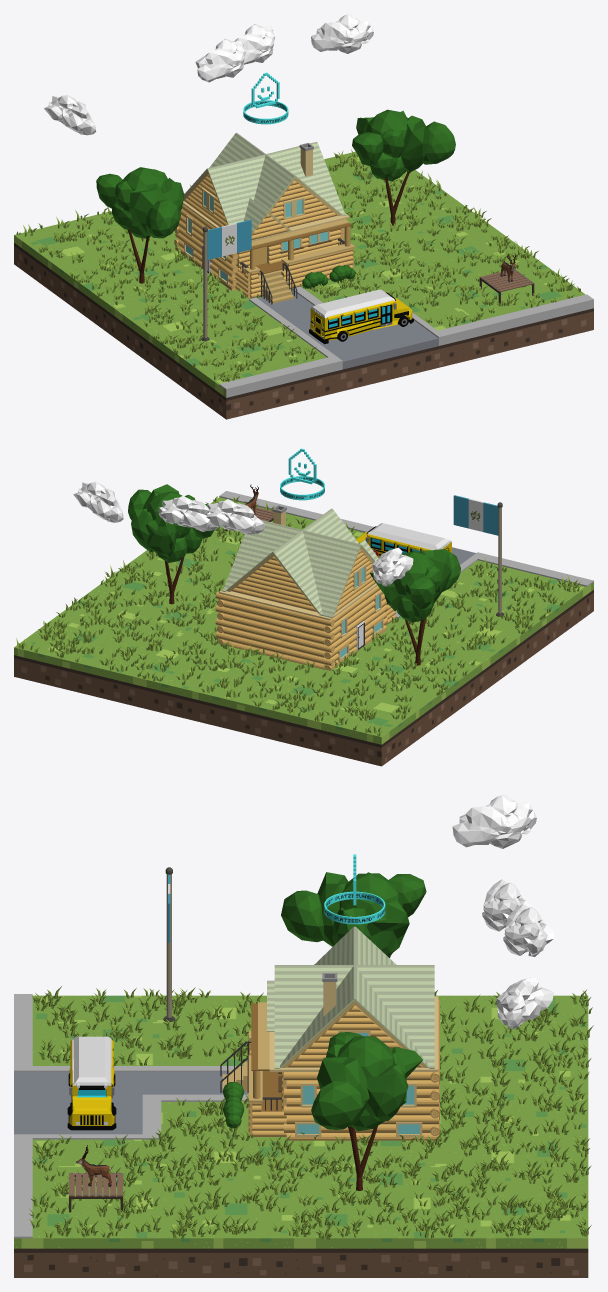
3 renders of one model, top to bottom at view 1: azimuth 30°, elevation 25°; view 2: azimuth 150°, elevation 25°; view 3: azimuth 270°, elevation 25°, orthographic. The views are drawn at different scales.
Parts seen in each view (by area): view 1: Cube.006, Cube.1516, Circle.012_Grass_0.192, Cube.007, tree, tree.001, VEHICLES_SCHOOL_BUS, OBJRANDOM_GUATEMALAN_FLAG, TYPE_PREMIUM, Cube.009; view 2: Cube.006, Cube.1516, Circle.012_Grass_0.192, Cube.007, tree.001, tree, OBJRANDOM_GUATEMALAN_FLAG, VEHICLES_SCHOOL_BUS, TYPE_PREMIUM; view 3: Cube.006, Circle.012_Grass_0.192, Cube.1516, tree, Cube.007, tree.001, VEHICLES_SCHOOL_BUS, Cube.009, TYPE_PREMIUM, OBJRANDOM_GUATEMALAN_FLAG.
Boxes of the visible parts, bbox=[...] form: Cube.006: bbox=[14, 151, 593, 419]; Cube.1516: bbox=[174, 132, 355, 304]; Circle.012_Grass_0.192: bbox=[16, 149, 580, 381]; Cube.007: bbox=[44, 14, 373, 135]; tree: bbox=[352, 109, 455, 225]; tree.001: bbox=[96, 167, 184, 283]; VEHICLES_SCHOOL_BUS: bbox=[309, 289, 413, 344]; OBJRANDOM_GUATEMALAN_FLAG: bbox=[201, 219, 251, 341]; TYPE_PREMIUM: bbox=[243, 72, 288, 124]; Cube.009: bbox=[479, 269, 534, 303]; Cube.006: bbox=[14, 491, 593, 766]; Cube.1516: bbox=[215, 505, 395, 670]; Circle.012_Grass_0.192: bbox=[16, 496, 580, 736]; Cube.007: bbox=[73, 481, 413, 586]; tree.001: bbox=[370, 549, 460, 665]; tree: bbox=[128, 484, 214, 604]; OBJRANDOM_GUATEMALAN_FLAG: bbox=[453, 495, 504, 616]; VEHICLES_SCHOOL_BUS: bbox=[356, 523, 451, 557]; TYPE_PREMIUM: bbox=[280, 448, 324, 500]; Cube.006: bbox=[14, 994, 588, 1277]; Circle.012_Grass_0.192: bbox=[29, 986, 593, 1239]; Cube.1516: bbox=[220, 926, 439, 1140]; tree: bbox=[311, 1032, 422, 1190]; Cube.007: bbox=[452, 795, 553, 1029]; tree.001: bbox=[281, 872, 426, 957]; VEHICLES_SCHOOL_BUS: bbox=[67, 1036, 116, 1130]; Cube.009: bbox=[69, 1172, 122, 1212]; TYPE_PREMIUM: bbox=[324, 854, 385, 924]; OBJRANDOM_GUATEMALAN_FLAG: bbox=[163, 867, 175, 1021].
Bounding box in the file's own units: 4071 × 2453 × 4040.
Materials: 47 (5 with a texture image).
